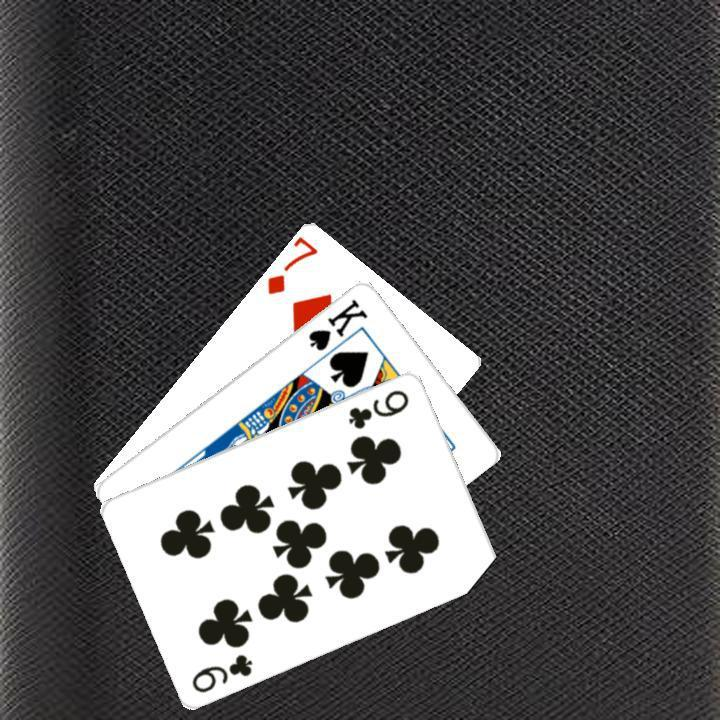7: (262, 233, 320, 296)
9: (343, 384, 411, 431), (187, 649, 255, 694)
K: (303, 293, 370, 353)
